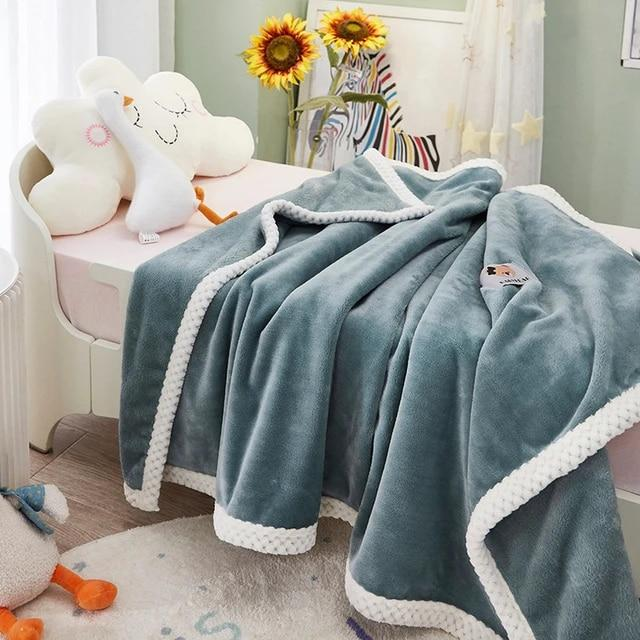blanket: (120, 151, 640, 640)
